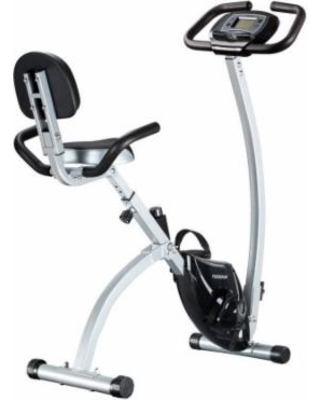gym_bike: (12, 22, 309, 395)
